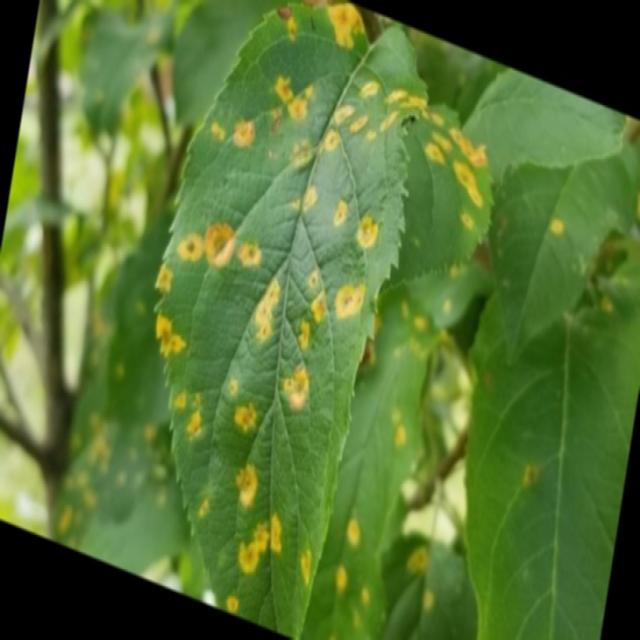Gymnosporangium_Rusts: (151, 3, 494, 634)
